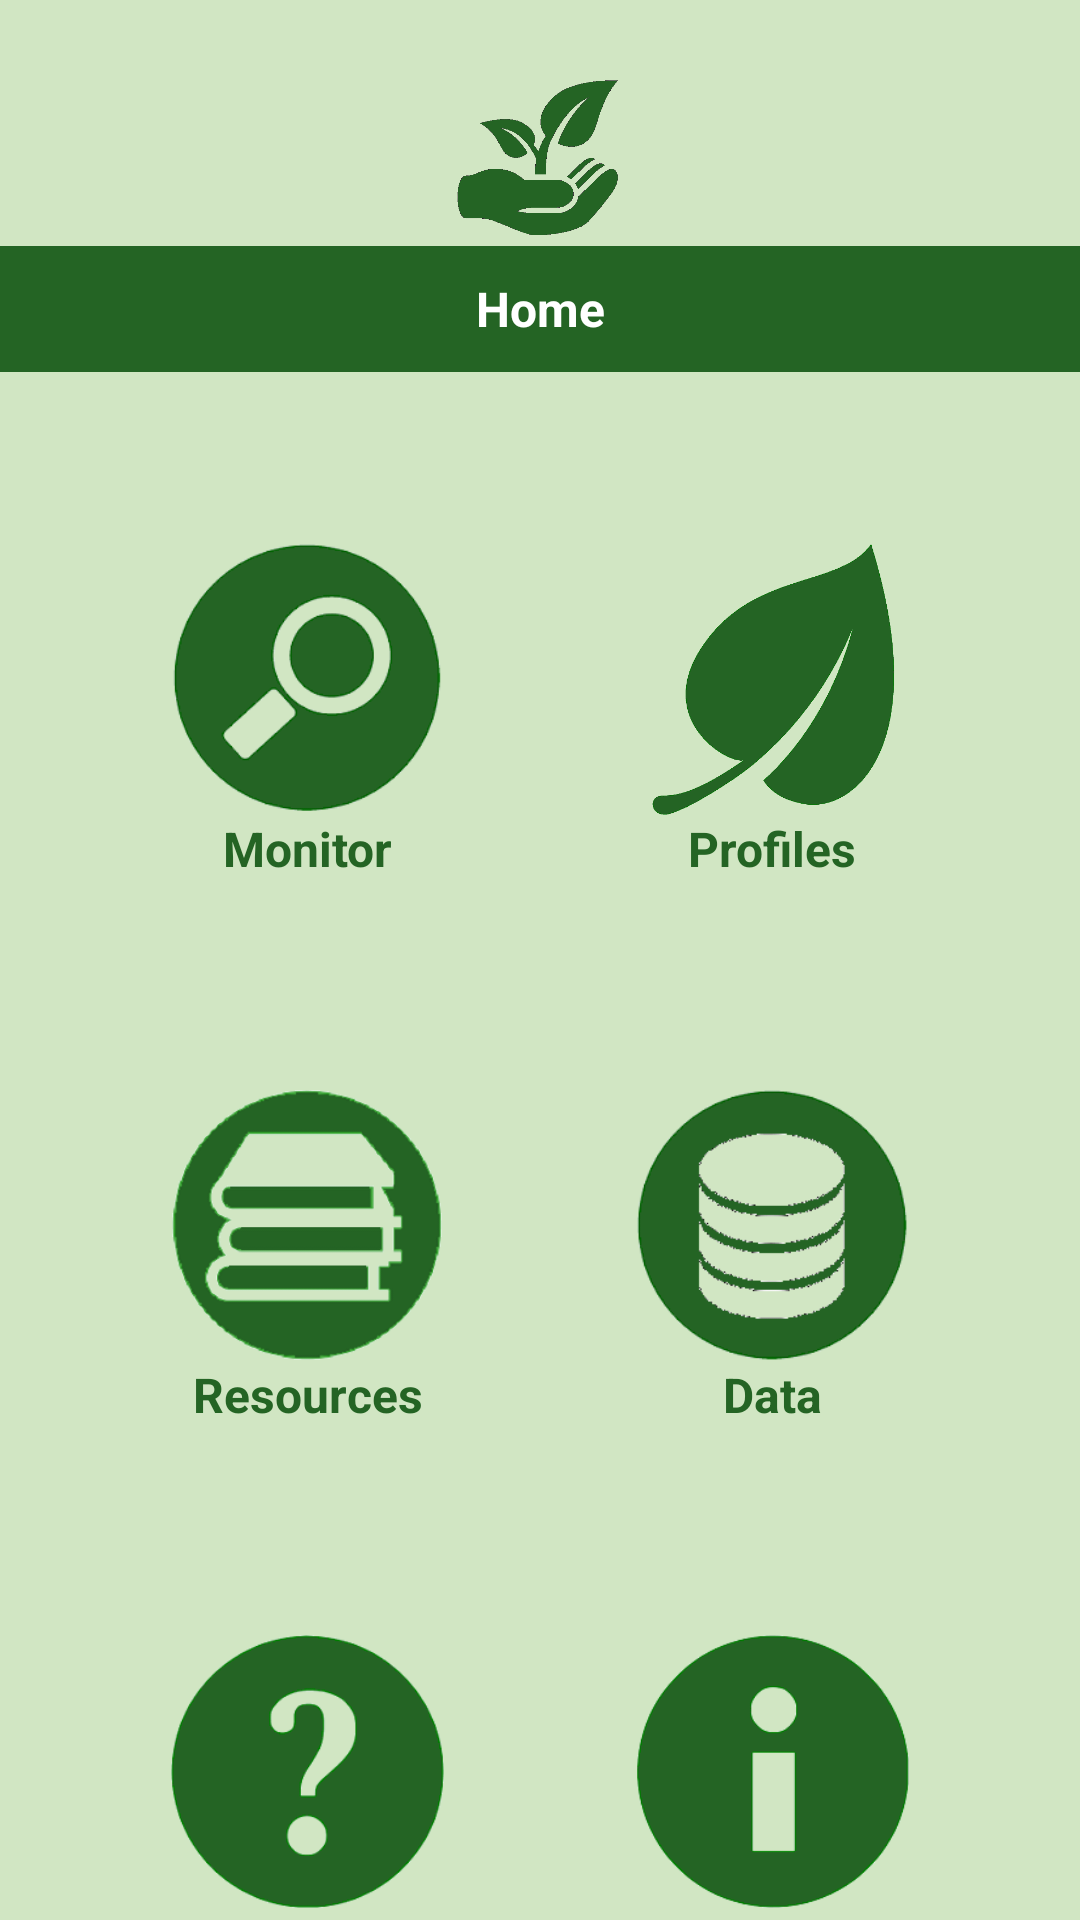

Icons on this 1080x1920 Android screen, each with its box as (x1, y1, x2, y2):
plant: (457, 80, 618, 235)
